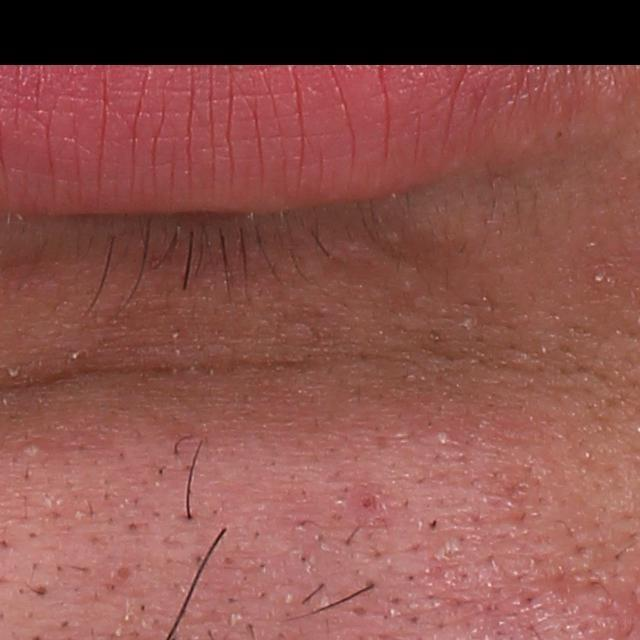comedo: (115, 563, 136, 580)
